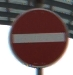No entry: (6, 7, 67, 68)
